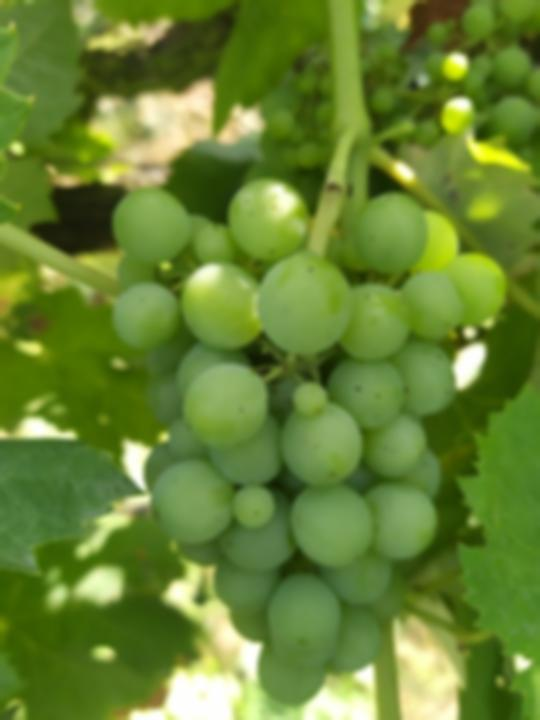grape: (110, 177, 510, 710)
